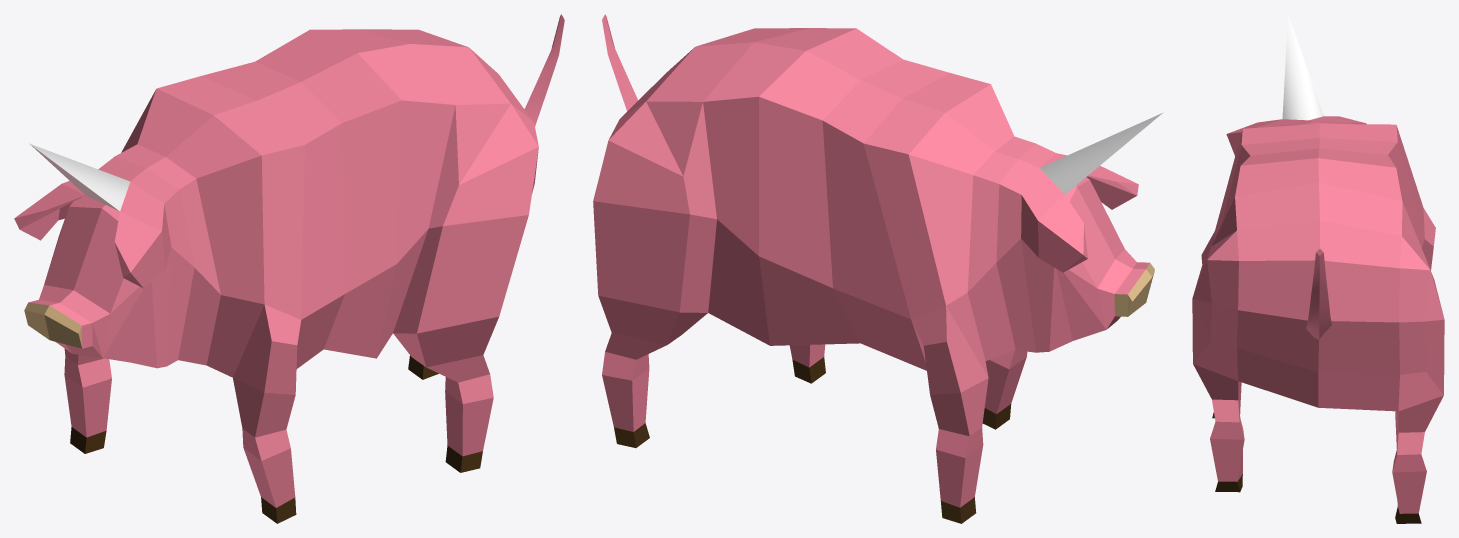
File: pigRunning9.obj
The picture shows the model from 3 angles, left to right: view 1: azimuth 30°, elevation 25°; view 2: azimuth 150°, elevation 25°; view 3: azimuth 270°, elevation 25°; orthographic projection. The views are drawn at different scales.
Parts seen in each view (by area): view 1: Pig_Cylinder.002_Pig_Cylinder.003; view 2: Pig_Cylinder.002_Pig_Cylinder.003; view 3: Pig_Cylinder.002_Pig_Cylinder.003.
Part boxes in pixels (x1=…): Pig_Cylinder.002_Pig_Cylinder.003: x1=14, y1=14, x2=564, y2=523; Pig_Cylinder.002_Pig_Cylinder.003: x1=593, y1=14, x2=1163, y2=523; Pig_Cylinder.002_Pig_Cylinder.003: x1=1192, y1=14, x2=1444, y2=523.
Size of the model in its own units: 22.8 by 15.65 by 11.11.
